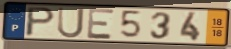3: (148, 11, 173, 41)
4: (179, 11, 202, 43)
5: (119, 10, 143, 40)
E: (86, 7, 117, 41)
P: (24, 6, 57, 38)
U: (56, 6, 86, 39)
